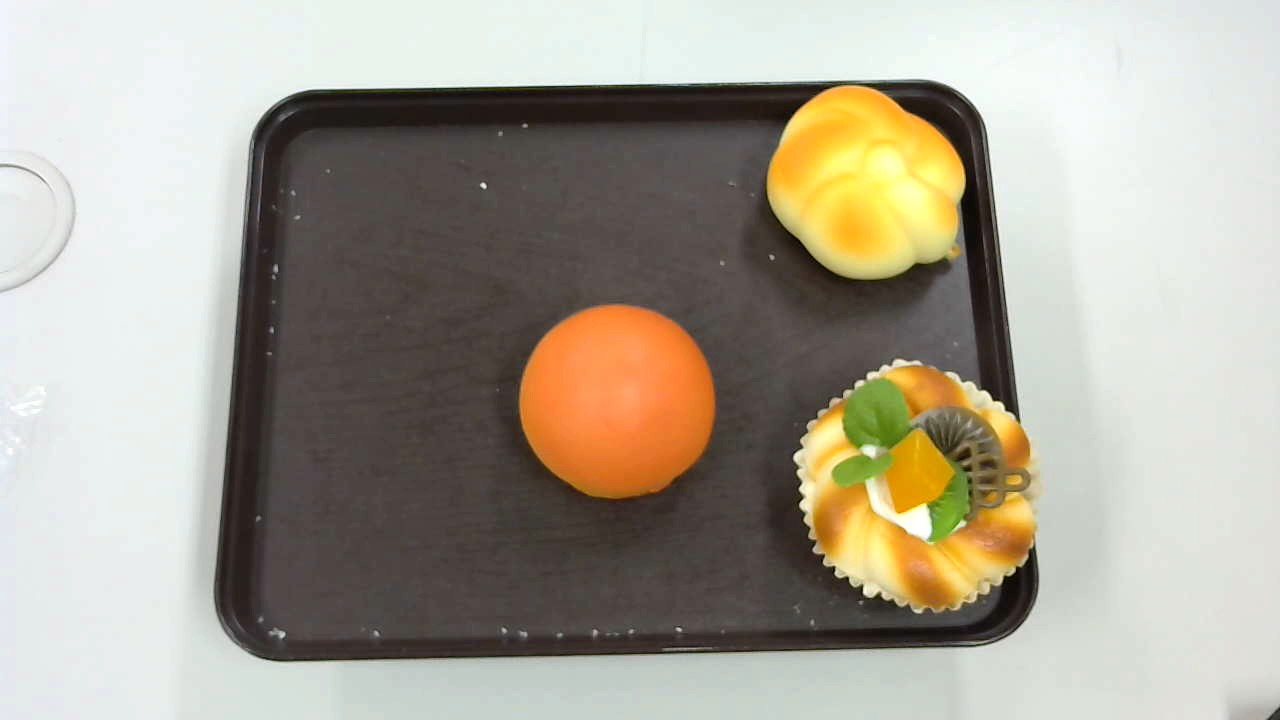bun: (519, 304, 714, 497)
croissant: (765, 85, 965, 281)
fruit tart: (793, 358, 1039, 614)
